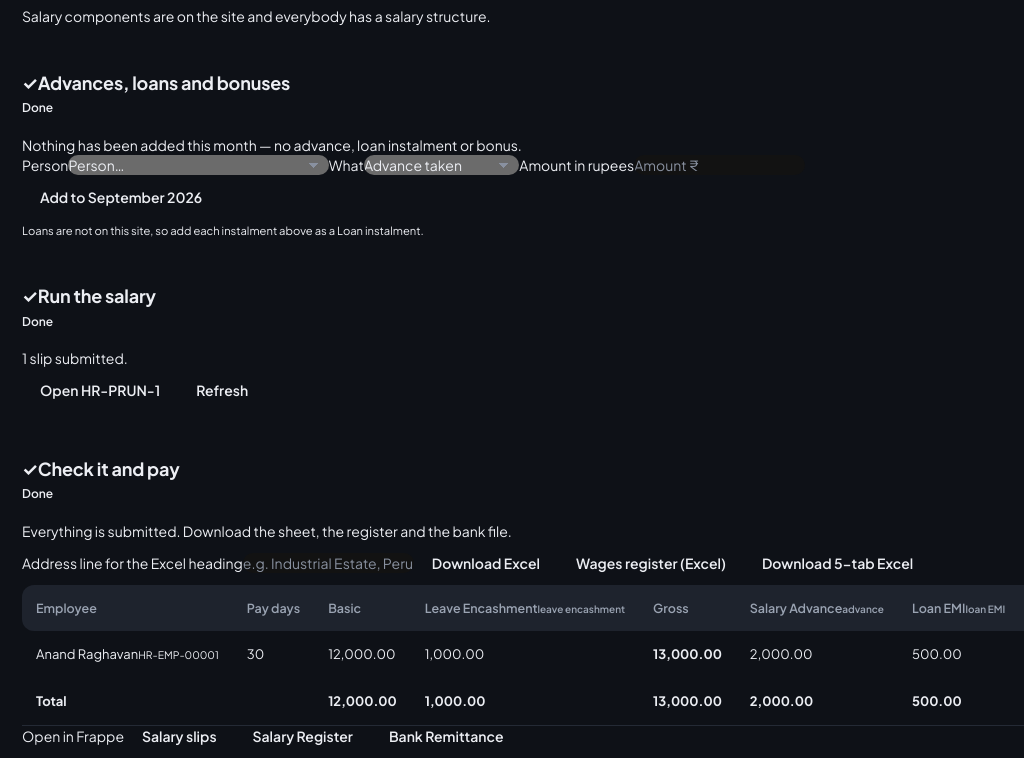
Test: step 4 — the sheet › asks for the EPF calculation before the 5-tab Excel, and makes nothing until one is chosen
This screenshot has width=1024, height=758.
(page scrolled)
Click the button "Download 5-tab Excel": (838, 563) [744, 541, 931, 585]
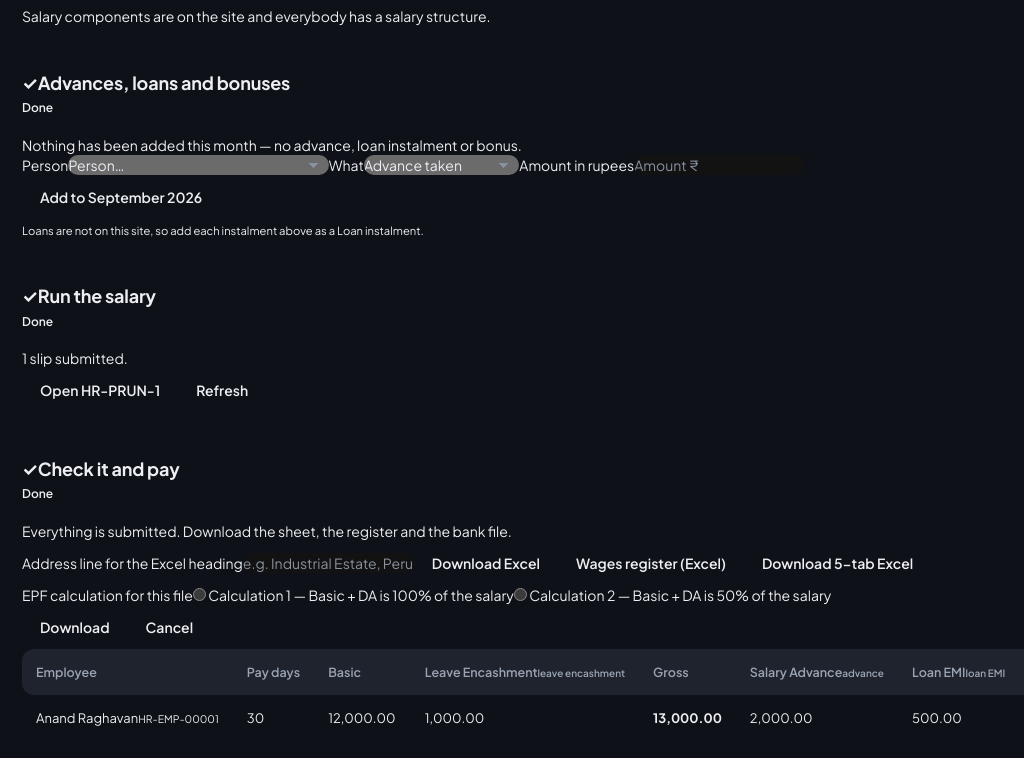
Now the text "EPF calculation for this file" is shown, box [22, 586, 193, 604]
Now the button "Download" is disabled, box [22, 605, 128, 649]
Click the button "Cancel": (169, 627) [128, 605, 211, 649]
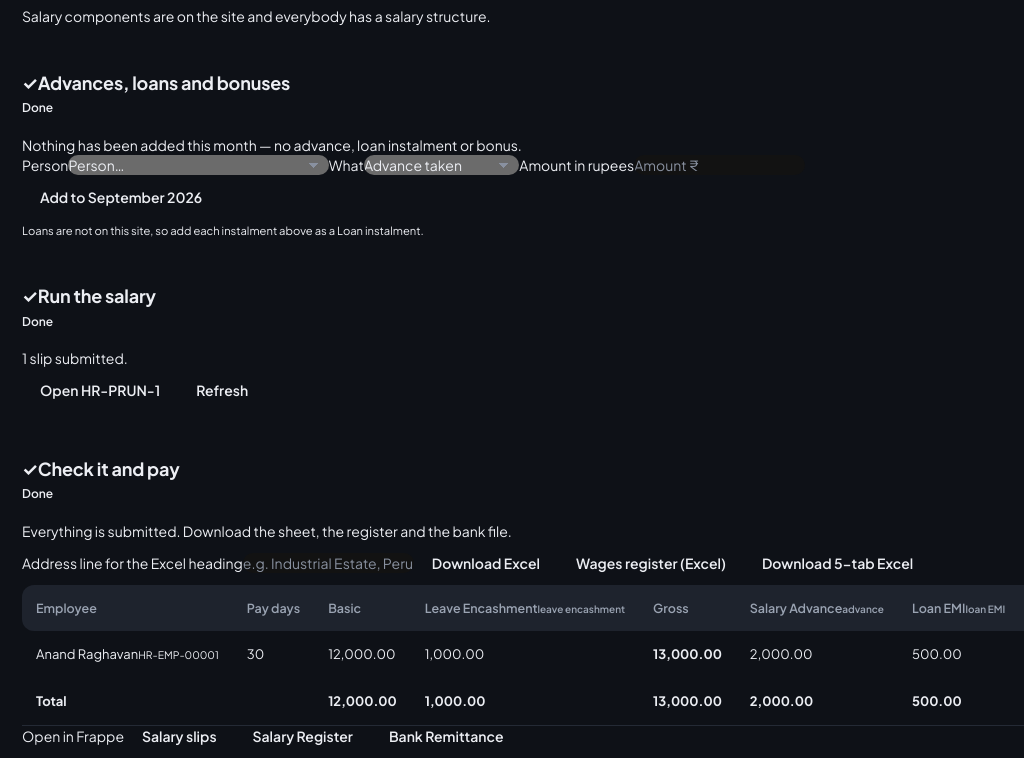
Now the text "EPF calculation for this file" is gone
